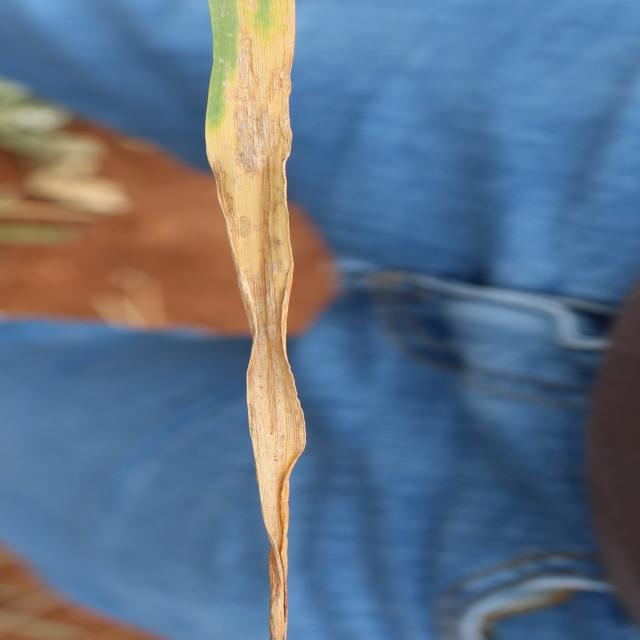Septoria: (202, 1, 310, 638)
